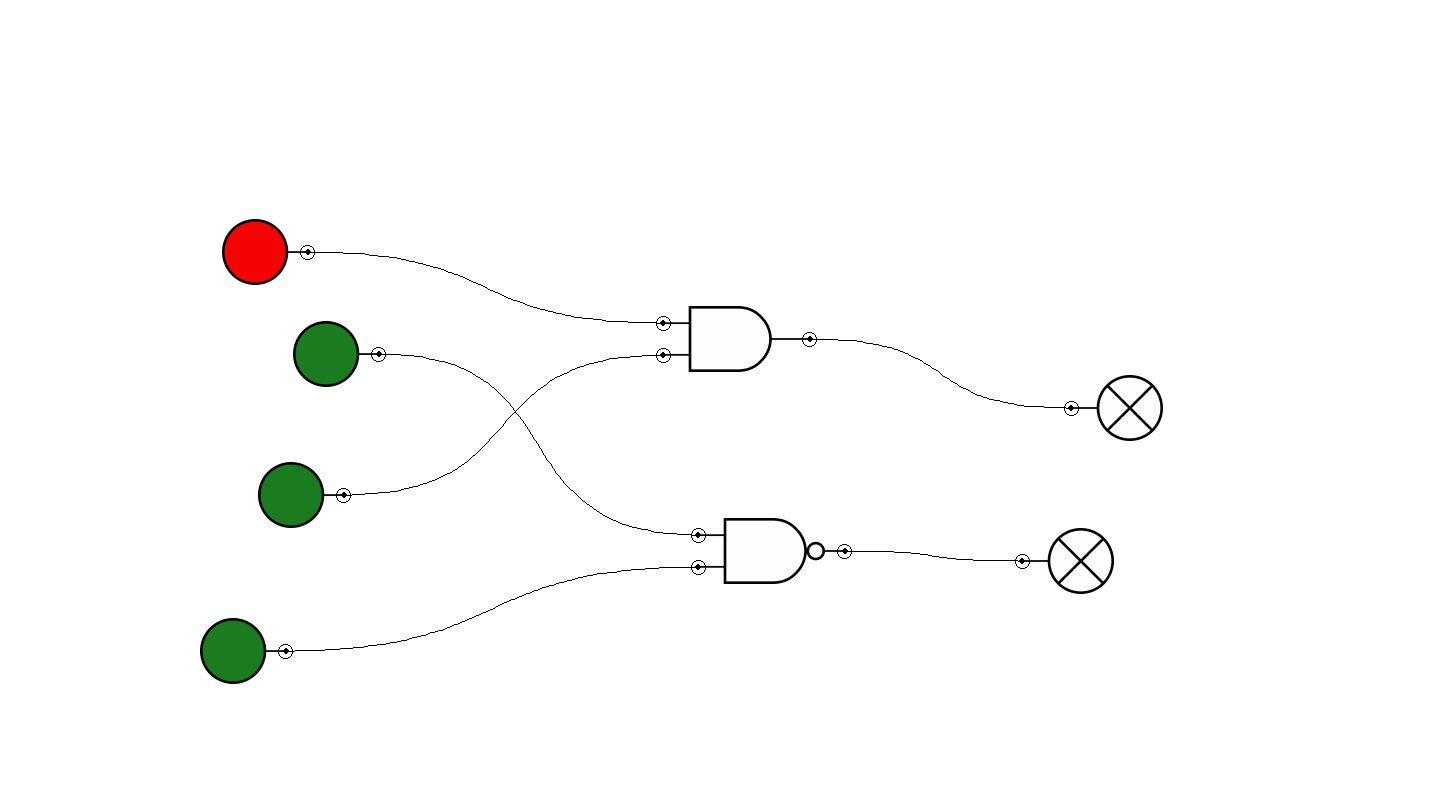and: (656, 306, 817, 372)
bulb: (1015, 528, 1114, 594), (1064, 375, 1163, 441)
nand: (691, 518, 852, 584)
switch_False: (222, 219, 315, 285)
switch_True: (200, 618, 293, 684), (293, 321, 386, 387), (258, 462, 351, 528)
